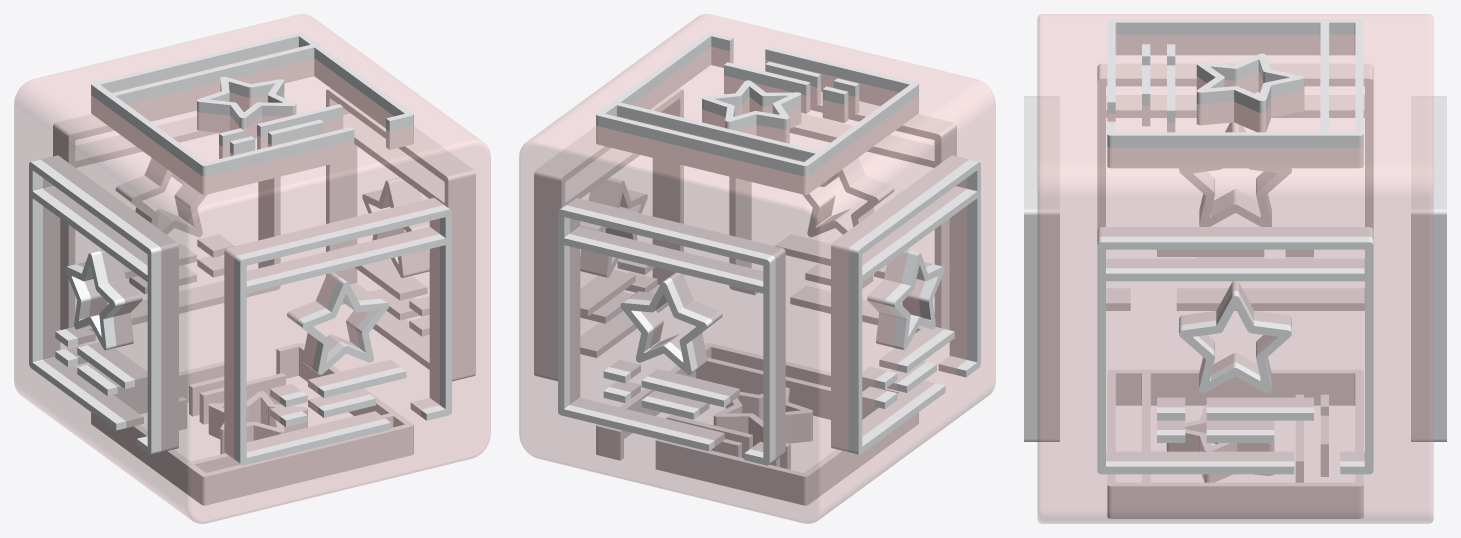
Rendered from acm.glb.
3 views of the same model, side by side, from view 1: azimuth 30°, elevation 25°; view 2: azimuth 150°, elevation 25°; view 3: azimuth 270°, elevation 25° (orthographic). The views are drawn at different scales.
Visible parts, largest first — view 1: Glass, Glyph Front, Glyph Left, Glyph Top, Glyph Right, Glyph Bottom, Glyph Back; view 2: Glass, Glyph Back, Glyph Left, Glyph Top, Glyph Right, Glyph Bottom, Glyph Front; view 3: Glass, Glyph Right, Glyph Top, Glyph Bottom, Glyph Left, Glyph Front, Glyph Back.
Part boxes in pixels (<box>): Glass: <box>14,14,490,523</box>; Glyph Front: <box>224,198,451,465</box>; Glyph Left: <box>29,155,178,454</box>; Glyph Top: <box>91,32,413,194</box>; Glyph Right: <box>326,88,475,381</box>; Glyph Bottom: <box>91,343,413,505</box>; Glyph Back: <box>53,105,280,332</box>; Glass: <box>519,14,995,523</box>; Glyph Back: <box>558,198,785,465</box>; Glyph Left: <box>831,155,980,454</box>; Glyph Top: <box>596,32,918,194</box>; Glyph Right: <box>534,88,683,381</box>; Glyph Bottom: <box>596,343,918,505</box>; Glyph Front: <box>729,92,956,332</box>; Glass: <box>1037,14,1433,523</box>; Glyph Right: <box>1097,227,1373,474</box>; Glyph Top: <box>1107,19,1363,168</box>; Glyph Bottom: <box>1107,369,1363,518</box>; Glyph Left: <box>1097,63,1373,310</box>; Glyph Front: <box>1024,96,1059,441</box>; Glyph Back: <box>1411,96,1446,441</box>.
Size of the model in its own units: 2.13 by 2.13 by 2.13.
